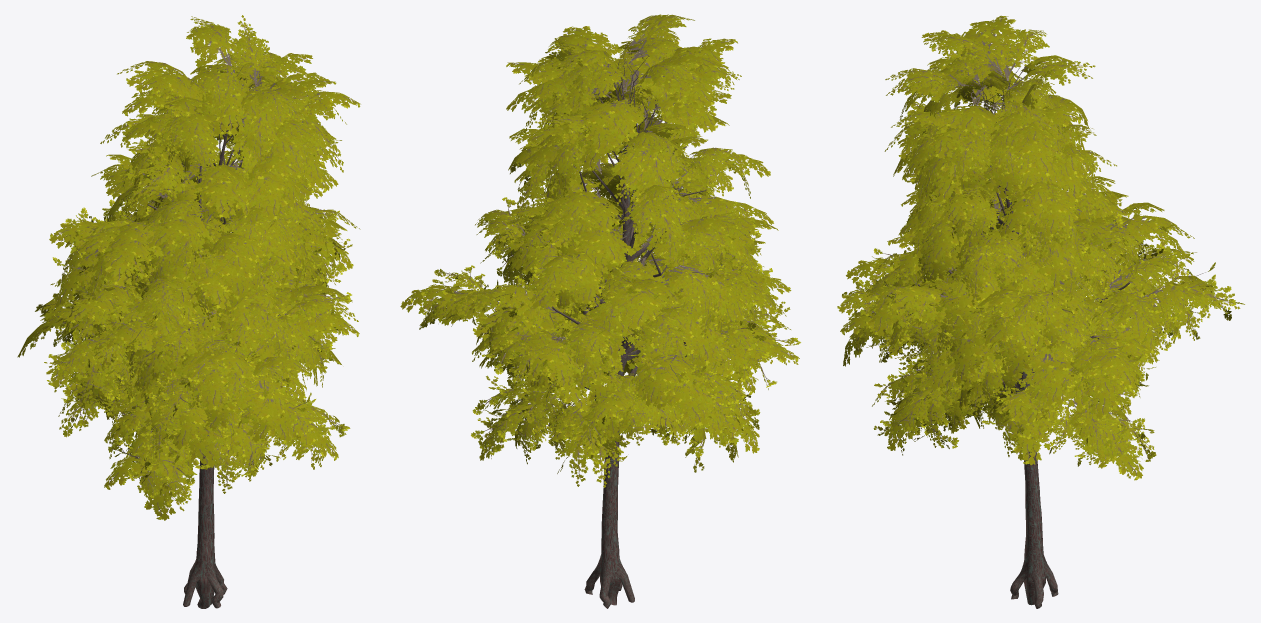
The picture shows the model from 3 angles, left to right: view 1: azimuth 30°, elevation 25°; view 2: azimuth 150°, elevation 25°; view 3: azimuth 270°, elevation 25°; orthographic projection. The views are drawn at different scales.
Parts seen in each view (by area): view 1: SM_MapleTree_02_Green_LOD0; view 2: SM_MapleTree_02_Green_LOD0; view 3: SM_MapleTree_02_Green_LOD0.
Part boxes in pixels (x1=…): SM_MapleTree_02_Green_LOD0: x1=17, y1=15, x2=360, y2=608; SM_MapleTree_02_Green_LOD0: x1=400, y1=14, x2=800, y2=608; SM_MapleTree_02_Green_LOD0: x1=837, y1=15, x2=1244, y2=608.
Size of the model in its own units: 13.76 by 21.84 by 14.63.
Materials: 2 (2 with a texture image).
